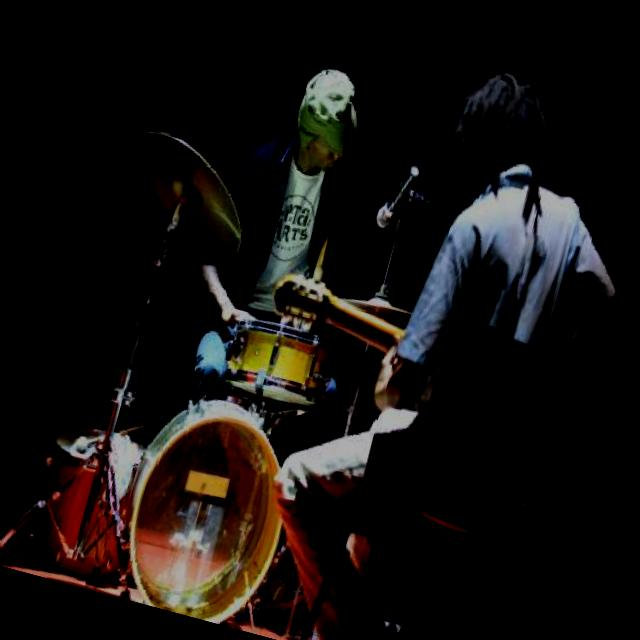Person: (230, 37, 640, 640), (176, 39, 402, 400)
